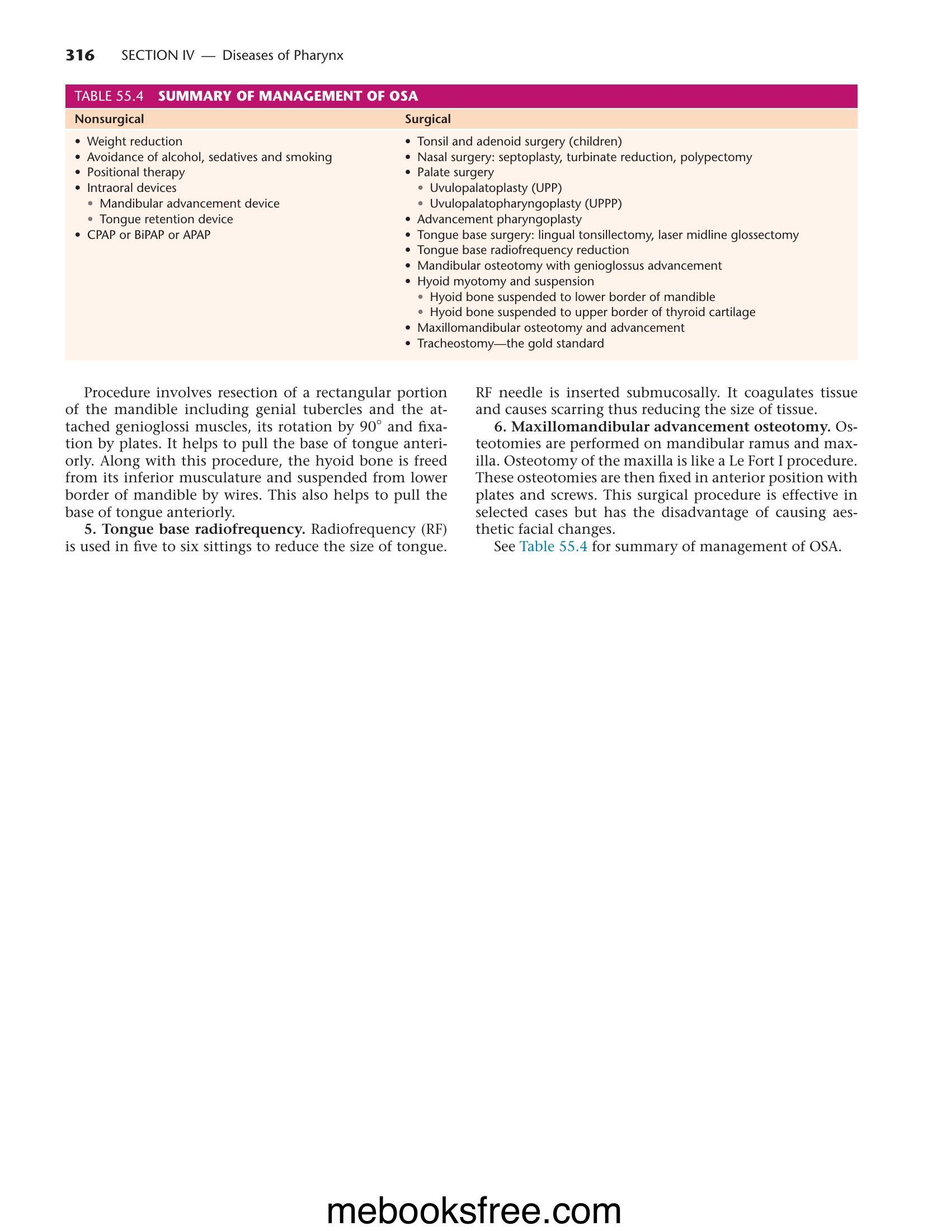caption: (73, 89, 419, 102)
header: (120, 48, 344, 64)
table: (65, 108, 858, 360)
text: (474, 384, 858, 557), (63, 384, 448, 556)
